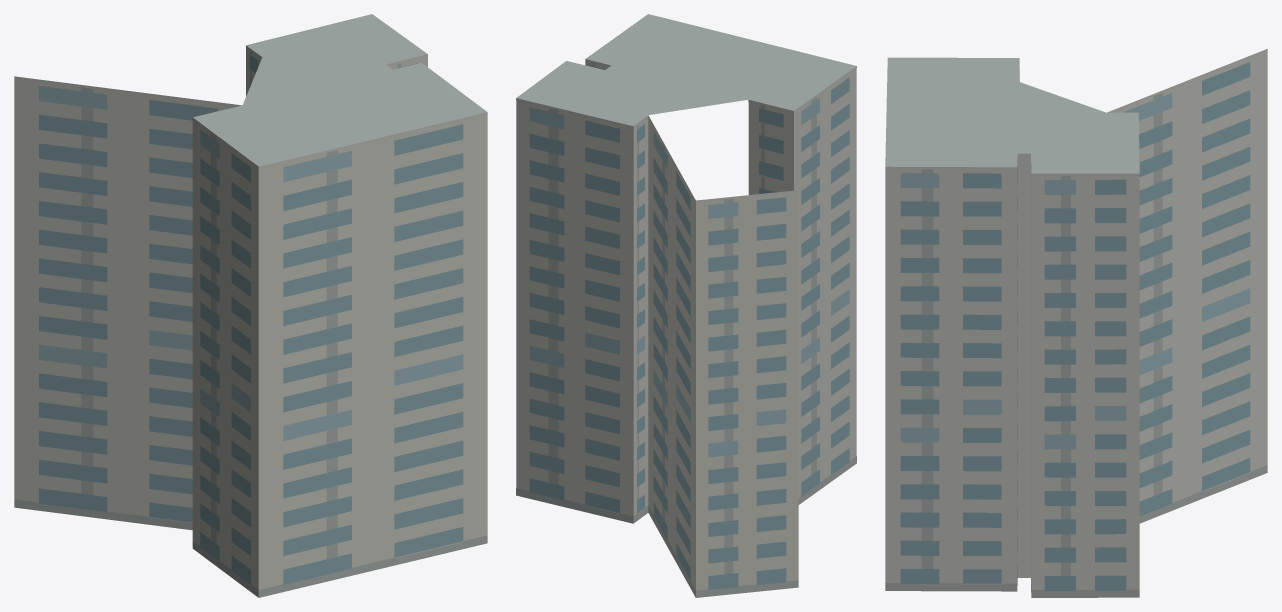
Rendered from residential-d6a5ca02-9ac7-4db7-8b77-7764f19e0d02.glb.
3 renders of one model, left to right at view 1: azimuth 30°, elevation 25°; view 2: azimuth 150°, elevation 25°; view 3: azimuth 270°, elevation 25°, orthographic. The views are drawn at different scales.
Visible parts, largest first — view 1: residential-d6a5ca02-9ac7-4db7-8b77-7764f19e0d02.tmp; view 2: residential-d6a5ca02-9ac7-4db7-8b77-7764f19e0d02.tmp; view 3: residential-d6a5ca02-9ac7-4db7-8b77-7764f19e0d02.tmp.
Part boxes in pixels (bbox=[...]): residential-d6a5ca02-9ac7-4db7-8b77-7764f19e0d02.tmp: bbox=[14, 14, 487, 597]; residential-d6a5ca02-9ac7-4db7-8b77-7764f19e0d02.tmp: bbox=[516, 14, 856, 597]; residential-d6a5ca02-9ac7-4db7-8b77-7764f19e0d02.tmp: bbox=[885, 49, 1267, 597].
Bounding box in the file's own units: 36.36 × 45 × 36.78.
